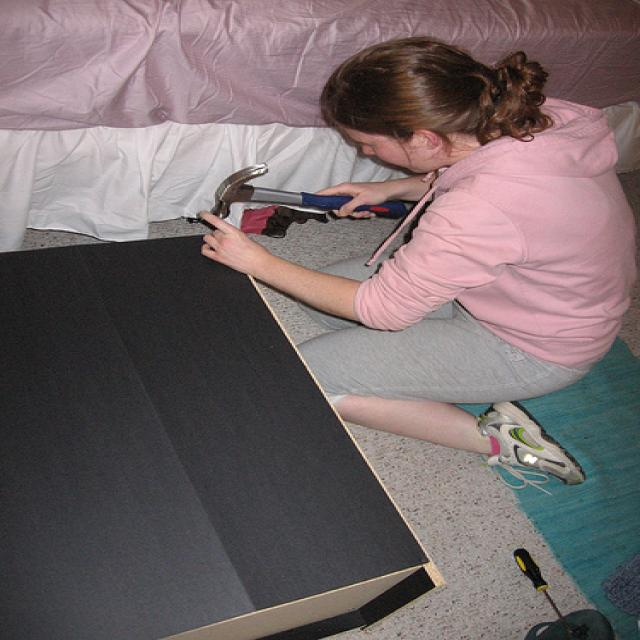hammer: (176, 148, 386, 230)
